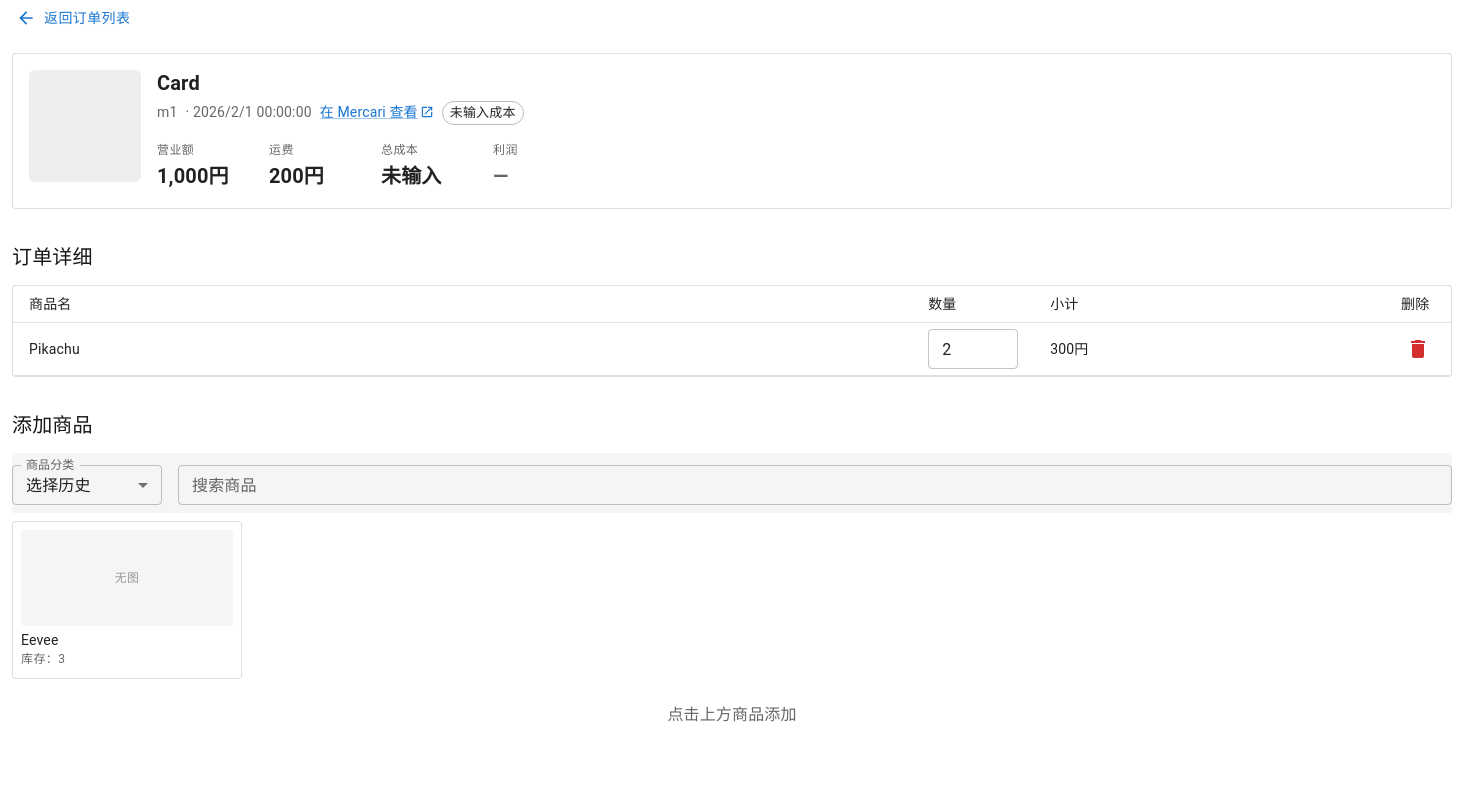
Test: Order page › deletes a line after confirmation and reloads the lines
Check: the heading "Card" is shown, box [157,70,200,94]
Click the button named "删除 Pikachu". click: (1418, 349)
box: [1401,332,1435,366]
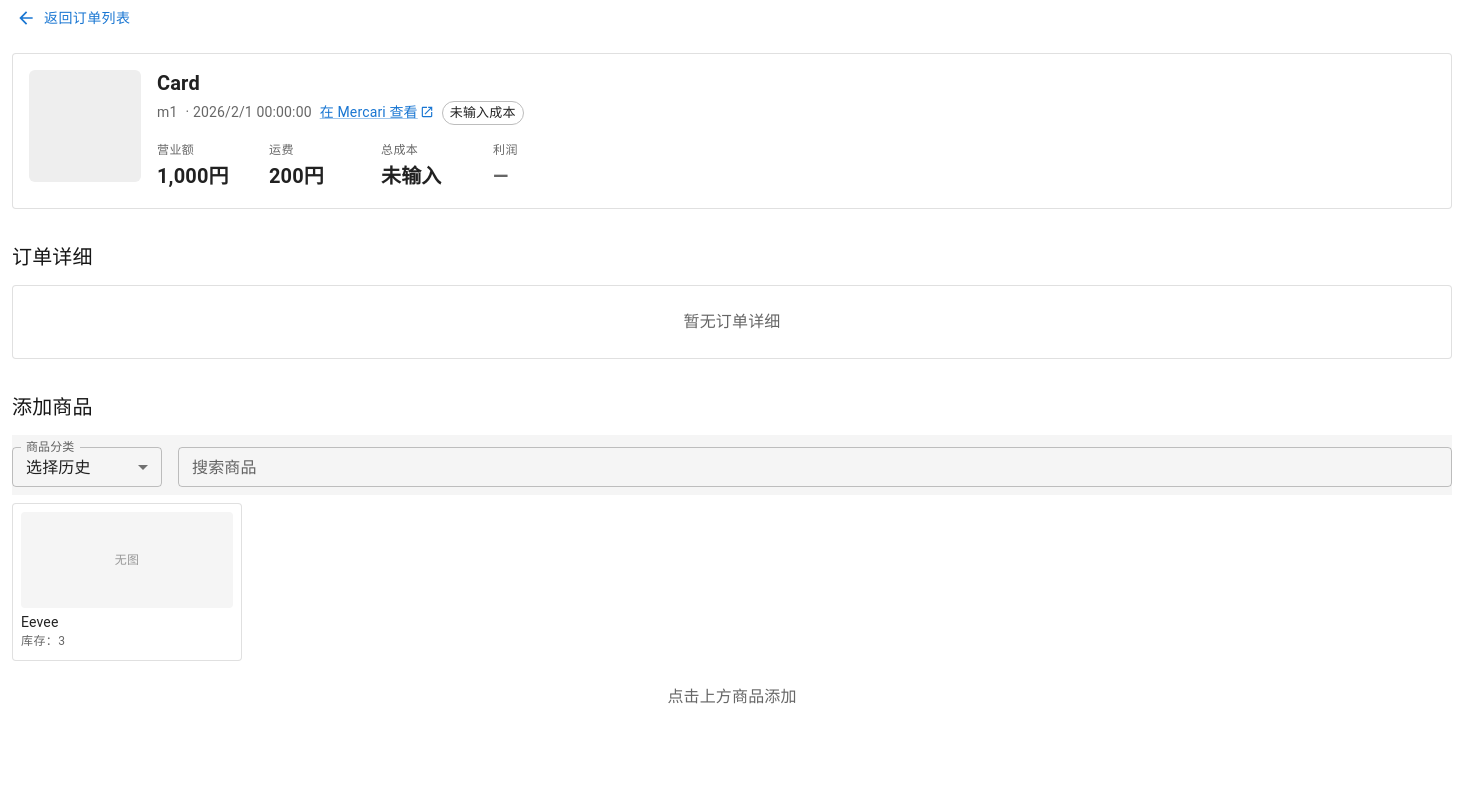
Check: the text "暂无订单详细" is shown, box [684,312,780,331]
